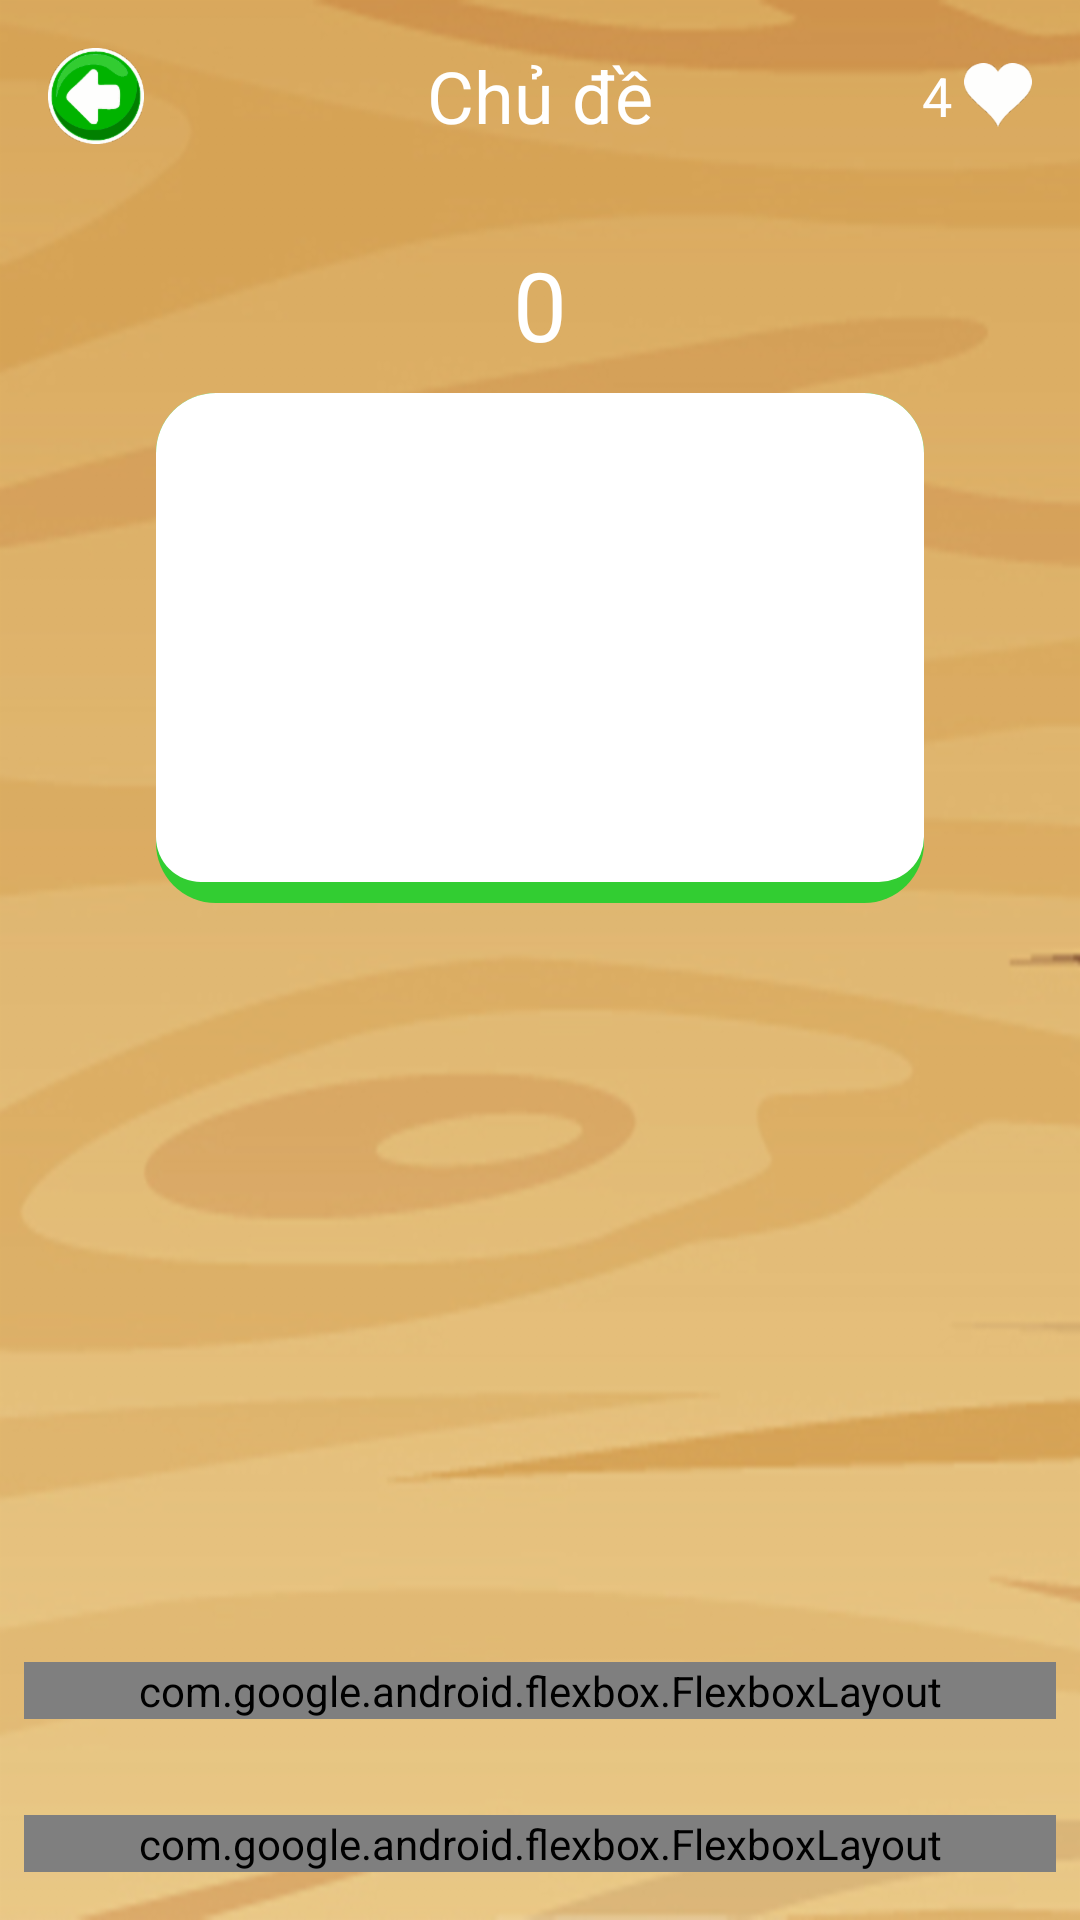

Screen size 1080w x 1920h. Icon name, then its center in pixels as (x=x, y=y):
Image Back: (x=96, y=96)
